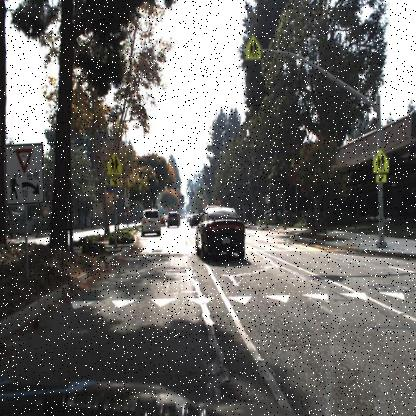car: (194, 201, 250, 265), (143, 205, 165, 234), (166, 208, 182, 227), (166, 210, 180, 230), (158, 212, 167, 230), (157, 215, 166, 225)
